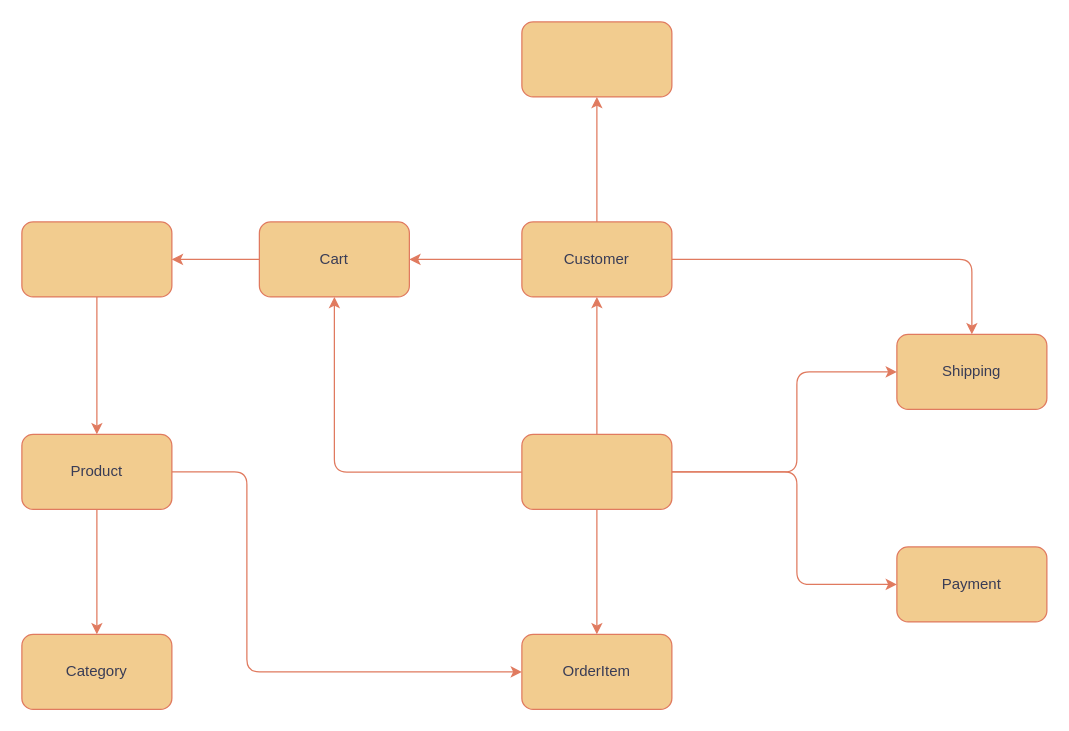
This 1069x731 diagram has some shape labels left out. Each missing label, with the centre of its shape:
"CartItem" goes at point 96,259.
"Order" goes at point 596,471.
"Security" goes at point 596,59.
